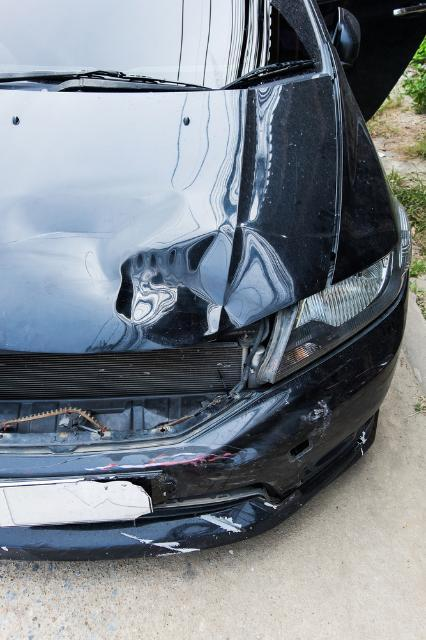dent: (4, 182, 233, 345), (224, 225, 292, 326)
no part: (2, 317, 293, 446)
scratch: (118, 510, 250, 553)
